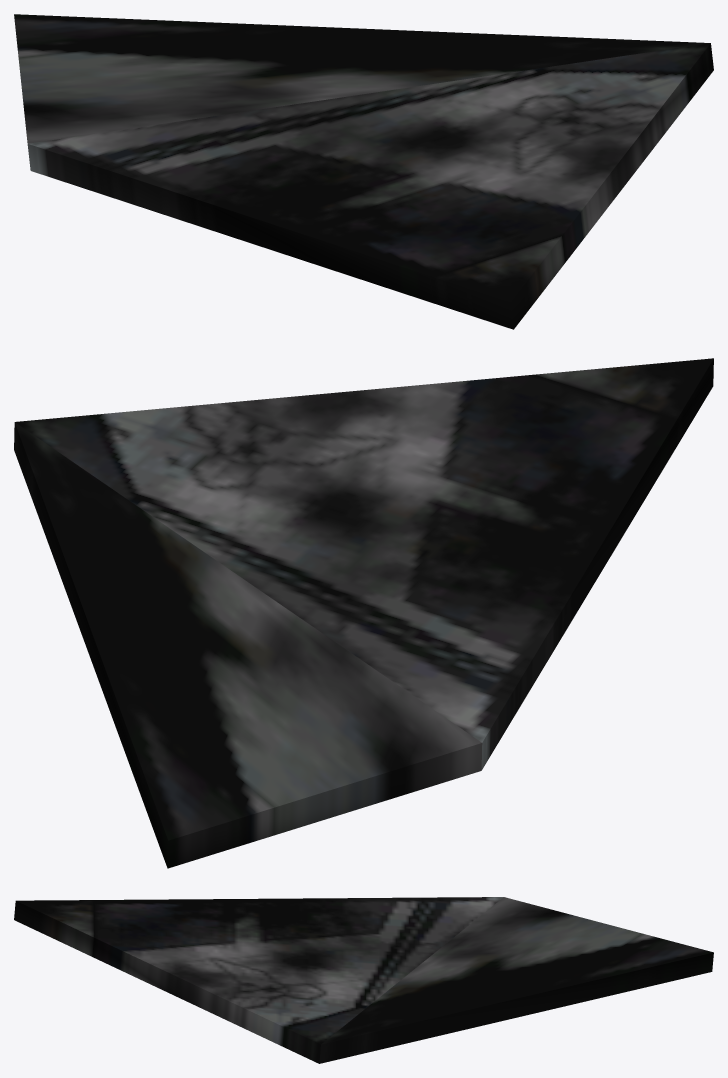
The model's file is USA - Aviation - Aurora Bomber - Damage State 2 - AVAurora_D2.glb.
The picture shows the model from 3 angles, top to bottom: view 1: azimuth 30°, elevation 25°; view 2: azimuth 150°, elevation 25°; view 3: azimuth 270°, elevation 25°; orthographic projection. The views are drawn at different scales.
Parts seen in each view (by area): view 1: AVAURORA_D2; view 2: AVAURORA_D2; view 3: AVAURORA_D2.
Part boxes in pixels (bbox=[...]): AVAURORA_D2: bbox=[14, 14, 713, 329]; AVAURORA_D2: bbox=[14, 358, 713, 868]; AVAURORA_D2: bbox=[14, 897, 713, 1063].
Size of the model in its own units: 8.66 by 1.5 by 13.41.
Materials: 1 (1 with a texture image).
